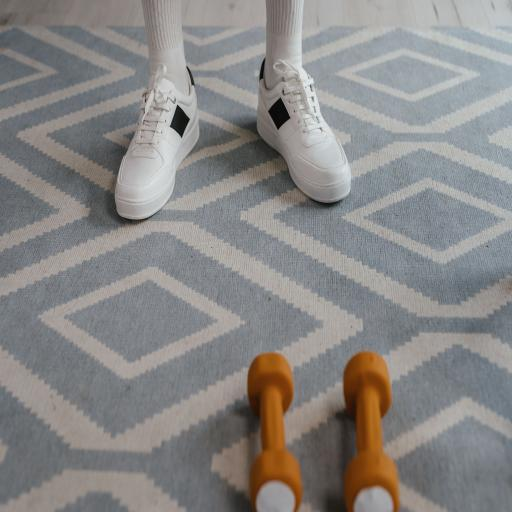shoe: (258, 60, 350, 202), (115, 65, 199, 219)
